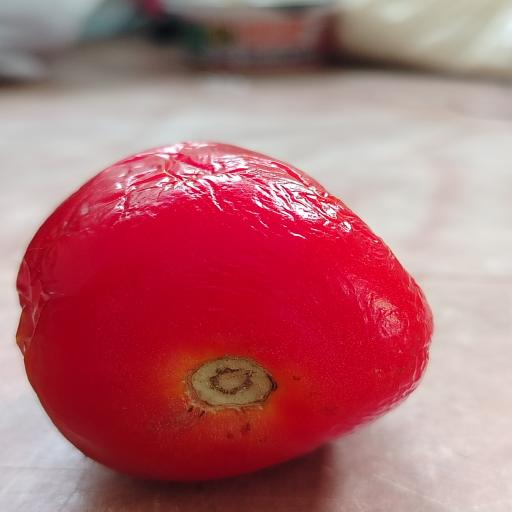spoiled: (17, 143, 432, 481)
